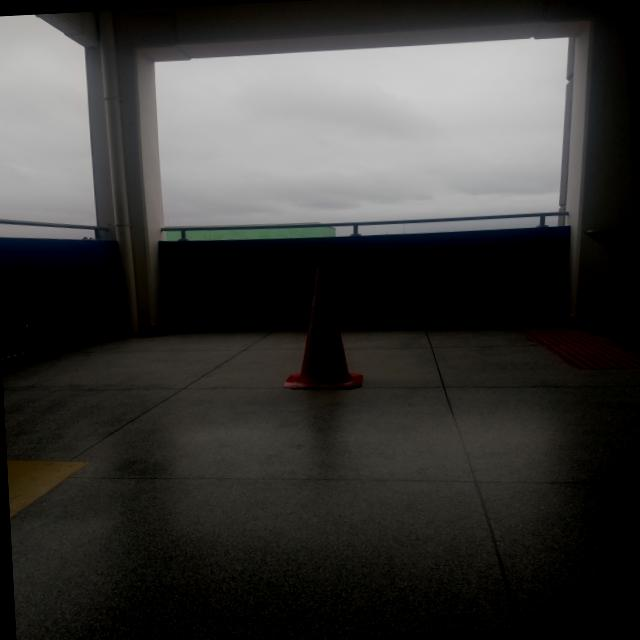cone: (298, 257, 357, 391)
